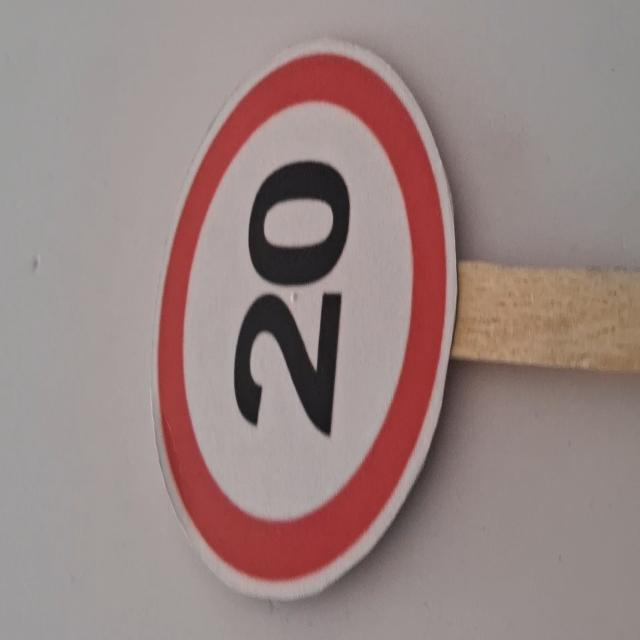Speed20: (142, 31, 461, 610)
